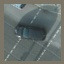car: (13, 23, 46, 41)
